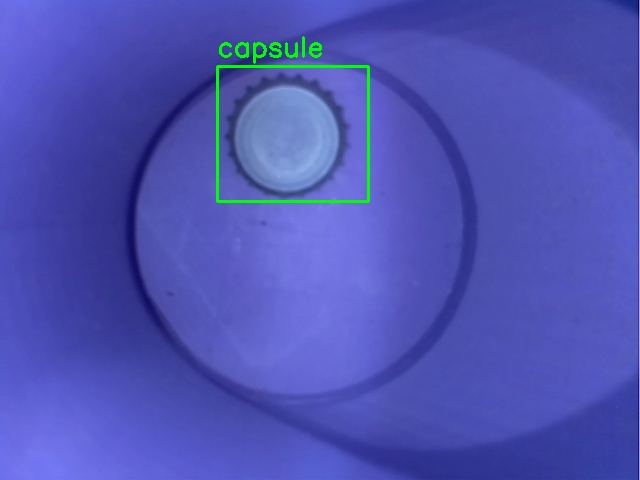capsule: (217, 66, 368, 201)
